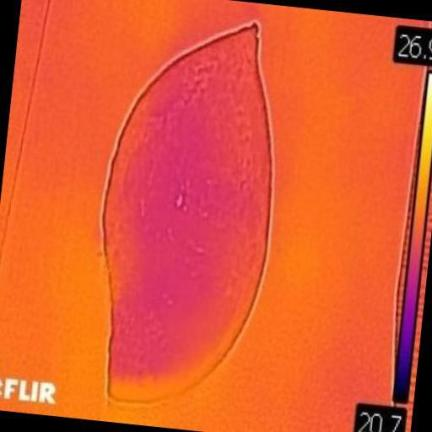mango: (102, 23, 271, 398)
